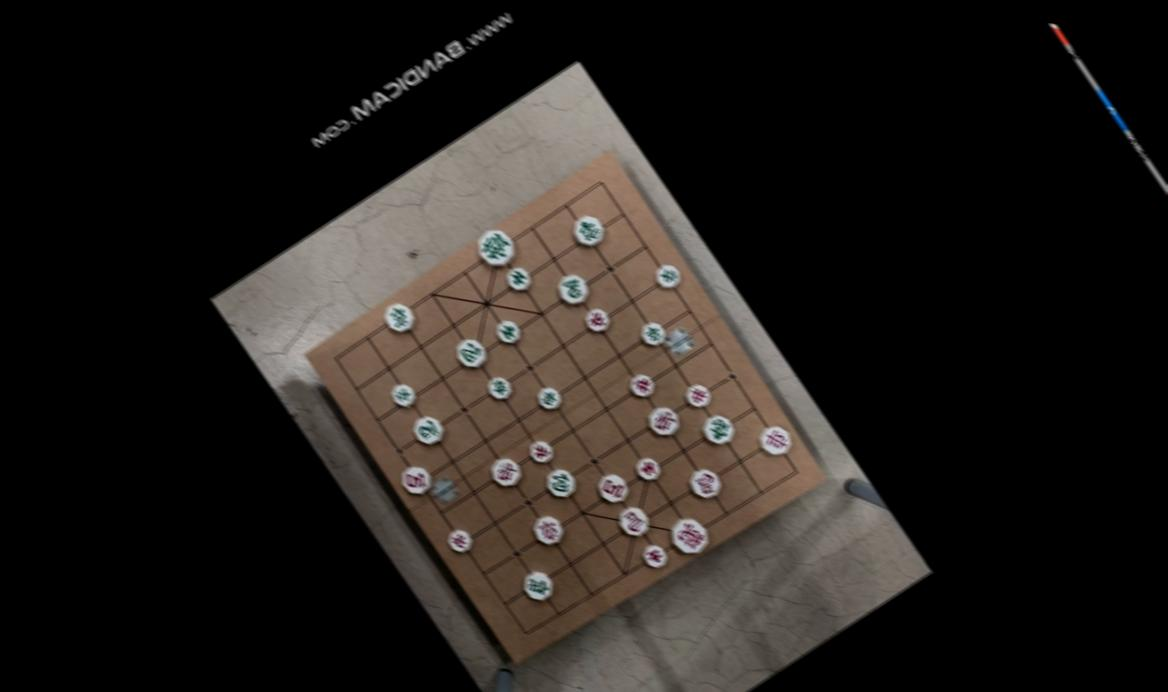cha_green: (515, 565, 558, 604), (379, 298, 419, 336)
cha_red: (751, 419, 797, 462), (525, 511, 569, 552)
jol_green: (649, 260, 685, 291), (384, 378, 420, 409), (634, 318, 669, 349), (480, 372, 513, 402), (532, 383, 564, 413)
jol_red: (678, 379, 714, 412), (622, 368, 658, 400), (579, 304, 612, 335), (441, 525, 474, 554), (525, 437, 557, 466)
ma_green: (551, 269, 594, 309), (406, 411, 448, 449)
ma_red: (609, 500, 653, 540), (682, 464, 724, 503)
po_green: (539, 463, 580, 502), (449, 333, 490, 371)
po_red: (394, 459, 436, 497), (590, 469, 631, 507)
sa_green: (501, 262, 535, 294), (490, 315, 523, 345)
sa_red: (628, 452, 665, 485), (636, 540, 670, 571)
sang_green: (696, 410, 740, 451), (564, 210, 608, 250)
sang_red: (641, 402, 683, 441), (483, 451, 525, 490)
wang_green: (468, 223, 521, 272)
wang_red: (662, 511, 714, 559)
